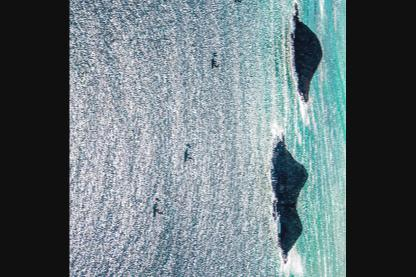Tornado: (154, 197, 166, 217), (184, 142, 195, 161), (212, 51, 219, 68), (235, 0, 243, 3)
